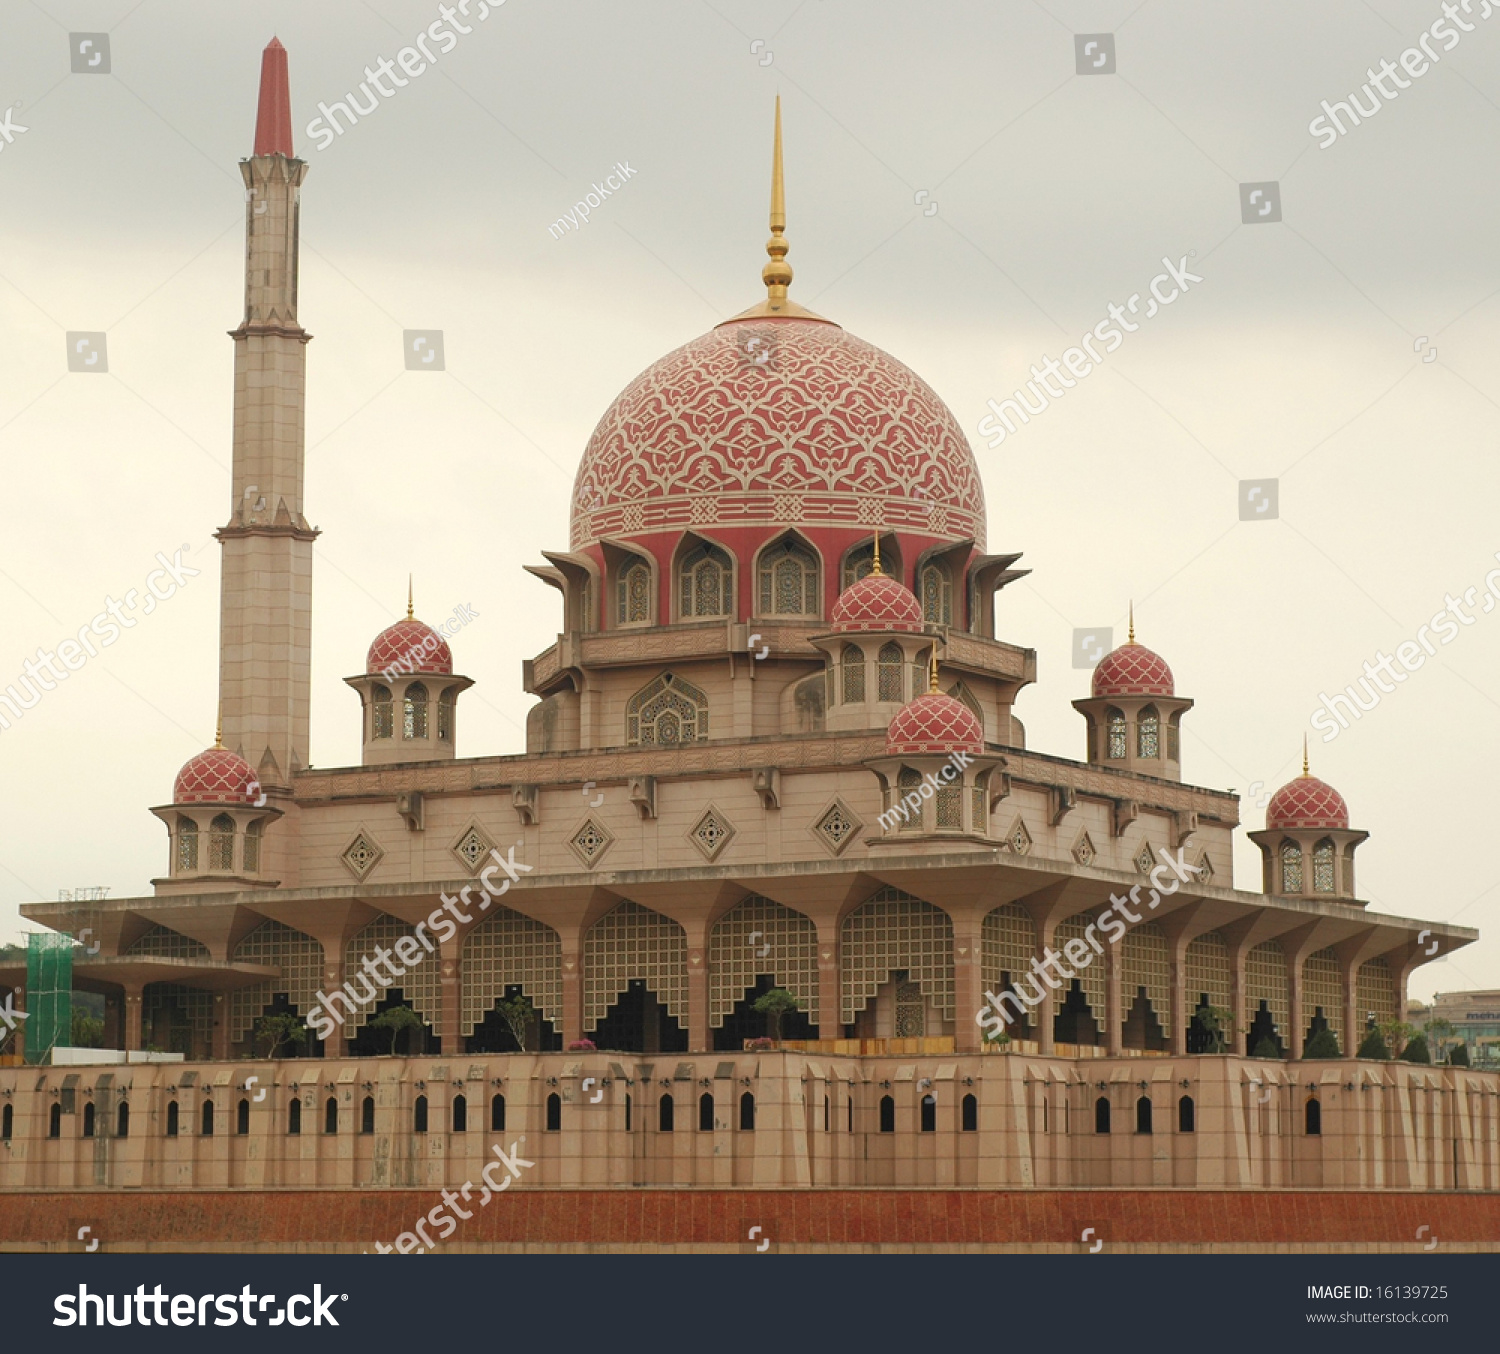Mosque: (172, 17, 1342, 1068)
